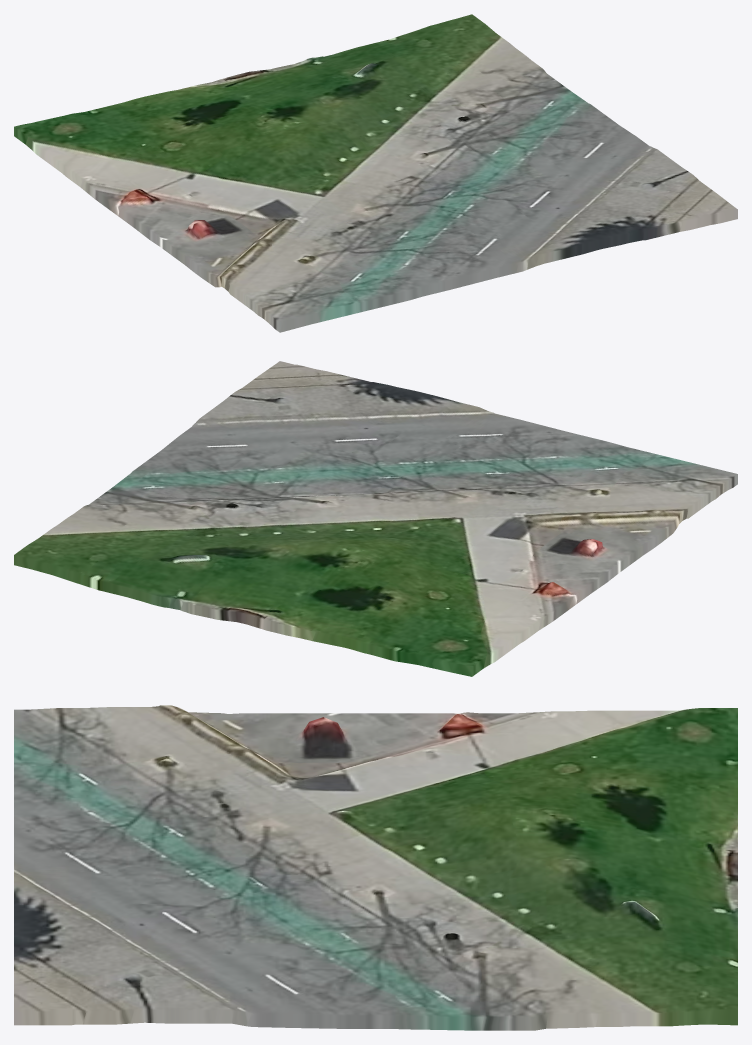
File: z20-167771-405197-h0-yup-uvflip-v3-world.glb
3 renders of one model, top to bottom at view 1: azimuth 30°, elevation 25°; view 2: azimuth 150°, elevation 25°; view 3: azimuth 270°, elevation 25°, orthographic. The views are drawn at different scales.
Size of the model in its own units: 30.16 by 1.68 by 30.32.
Materials: 1 (1 with a texture image).
